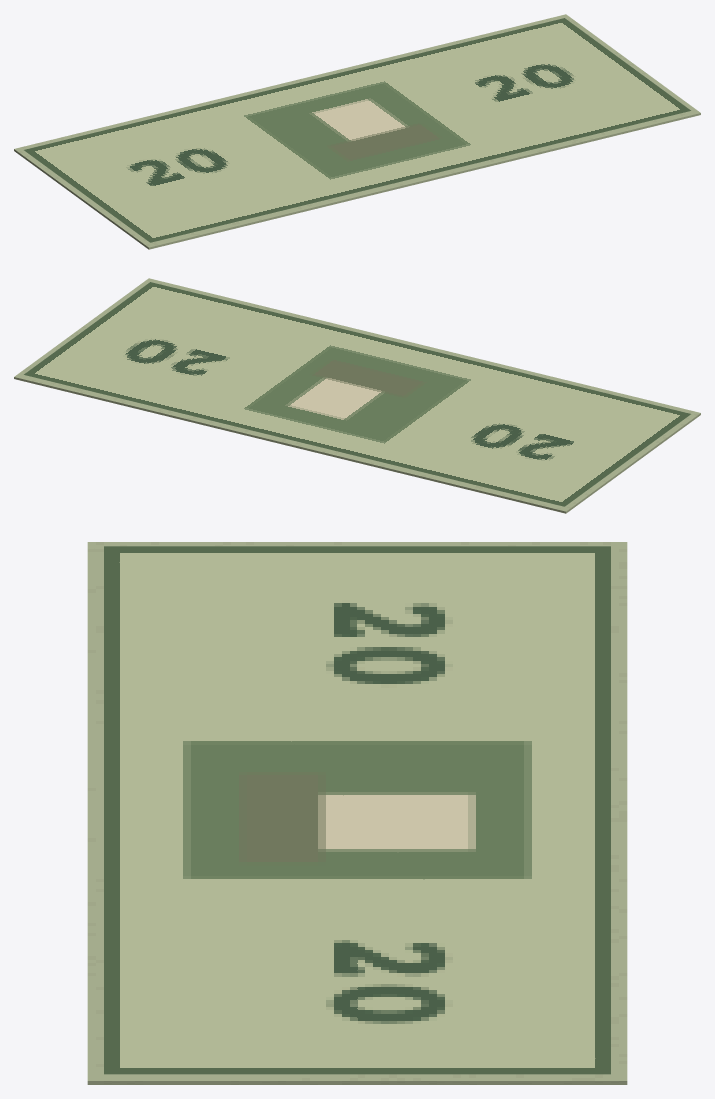
File: money_twenty.glb
3 renders of one model, top to bottom at view 1: azimuth 30°, elevation 25°; view 2: azimuth 150°, elevation 25°; view 3: azimuth 270°, elevation 25°, orthographic. The views are drawn at different scales.
Parts seen in each view (by area): view 1: block_printed face, block_item backing; view 2: block_printed face, block_item backing; view 3: block_printed face, block_item backing.
Part boxes in pixels (x1,y1,x2,y2): block_printed face: (24,18,690,242); block_item backing: (14,14,700,249); block_printed face: (24,282,690,506); block_item backing: (14,278,700,513); block_printed face: (104,546,610,1074); block_item backing: (87,542,627,1084).
Size of the model in its own units: 0.156 by 0.0007 by 0.066.
Materials: 1 (1 with a texture image).
